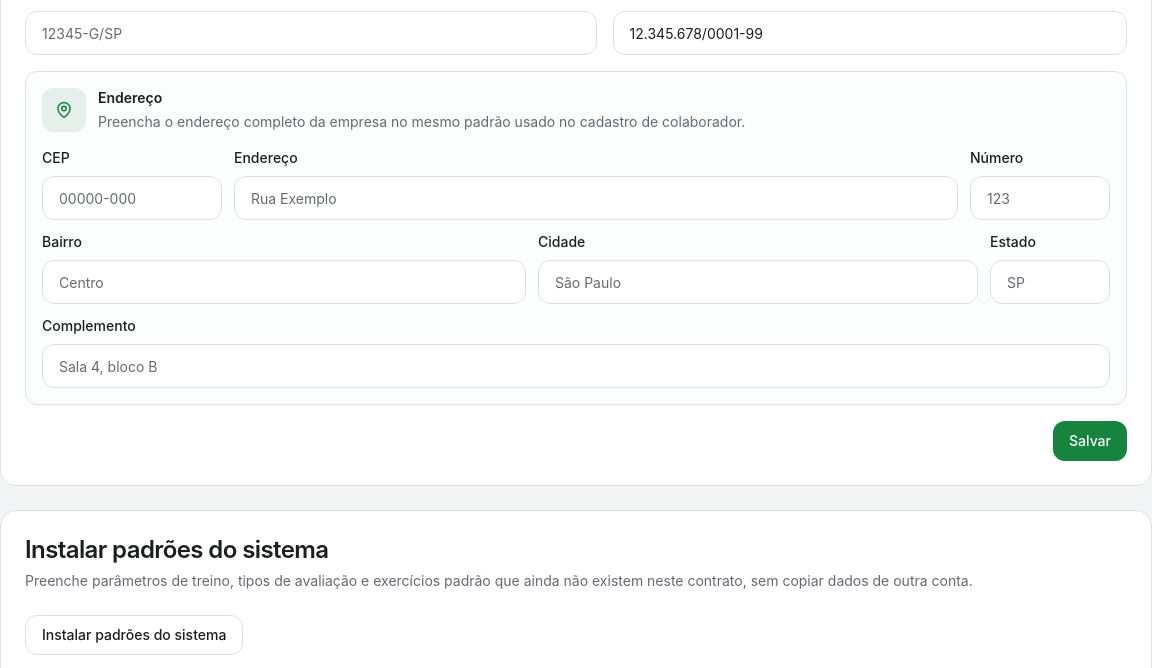
ContractSettings install product defaults › mostra a falha da instalação junto ao botão em vez de exigir que o usuário procure o erro no topo da tela
(page scrolled)
Click the button "Instalar padrões do sistema" at (134, 635), box x1=25 y1=615 x2=243 y2=655
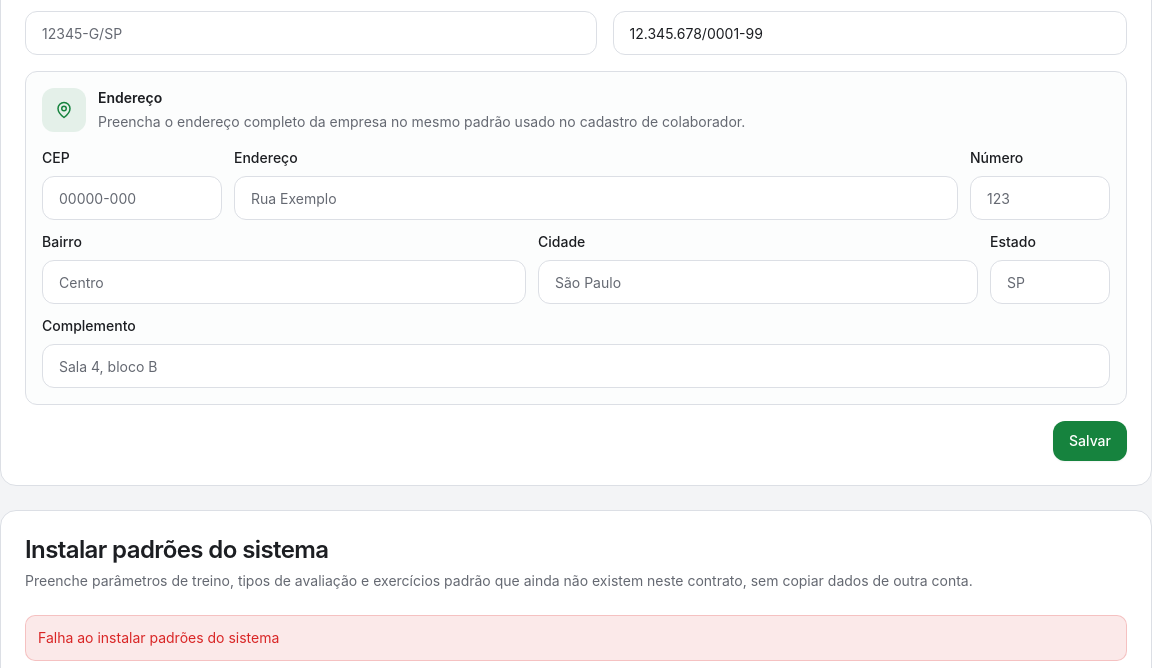
Now the text "Falha ao instalar padrões do sistema" is shown, box x1=25 y1=615 x2=1127 y2=661
